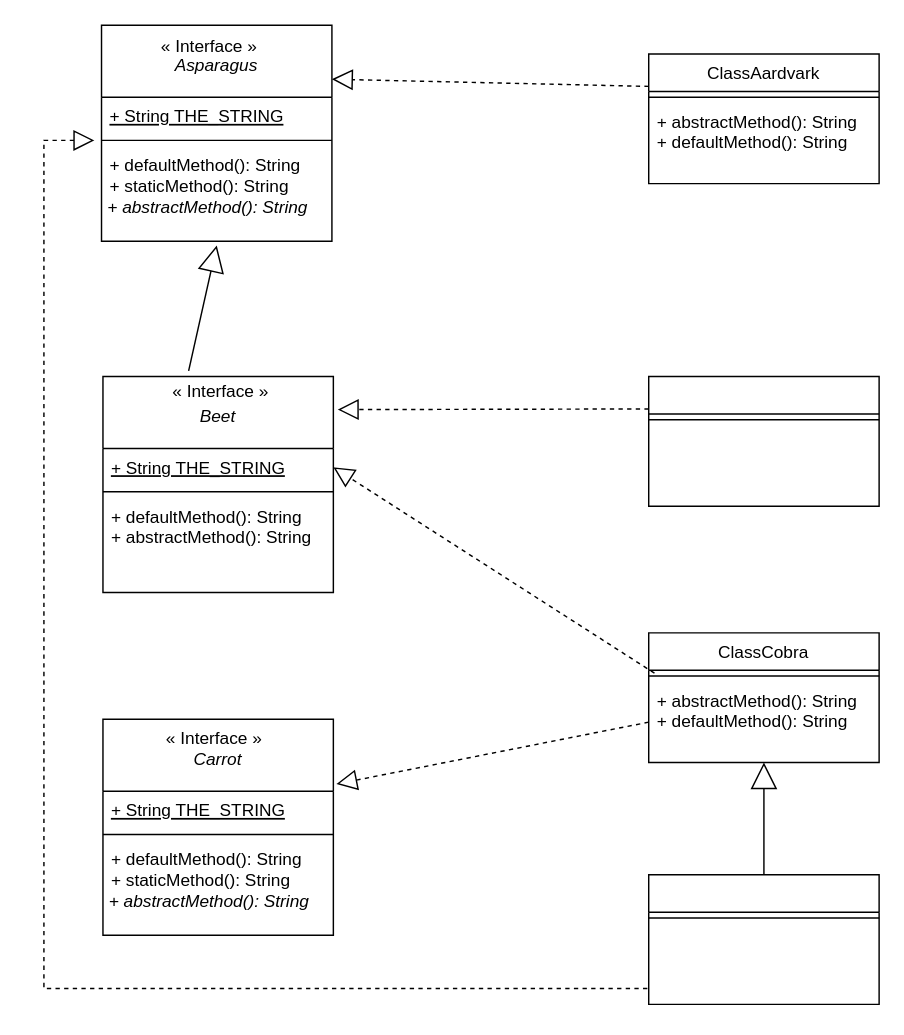
The diagram is 904 pixels wide and 1035 high, and some of its shapes have lost their labels. The centre of each missing label's shape, as x and y in pixels:
ClassBuffalo: point 763,440
ClassDove: point 763,938
